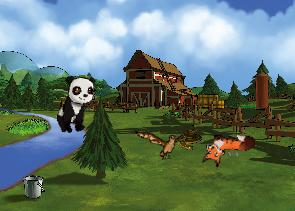eagle: (135, 120, 188, 165)
fox: (201, 131, 255, 169)
panda: (54, 72, 97, 137)
